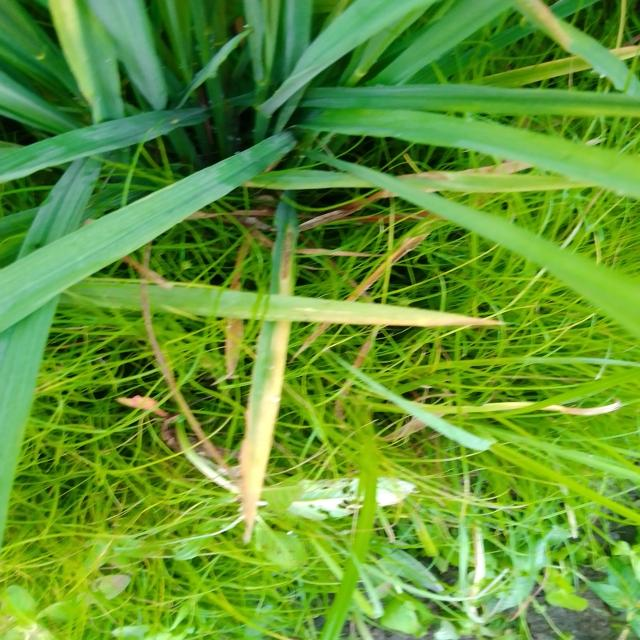Brown spot: (221, 218, 292, 532)
